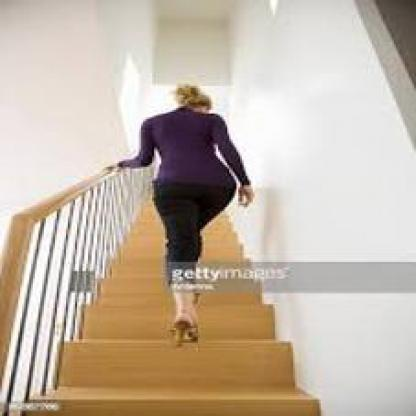stair_up: (57, 258, 310, 410)
